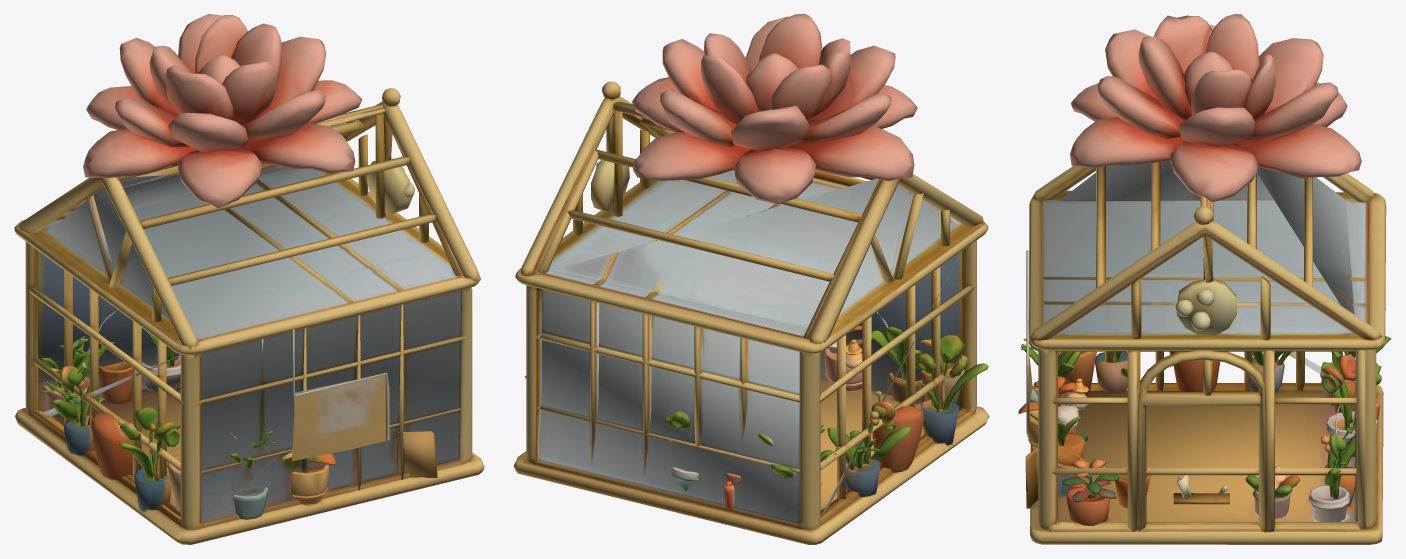
The model's file is florist.glb.
The picture shows the model from 3 angles, left to right: view 1: azimuth 30°, elevation 25°; view 2: azimuth 150°, elevation 25°; view 3: azimuth 270°, elevation 25°; orthographic projection. The views are drawn at different scales.
Visible parts, largest first — view 1: tripo_node_82040ec4-b4fe-468d-a8b9-e0e1ef69a4c4; view 2: tripo_node_82040ec4-b4fe-468d-a8b9-e0e1ef69a4c4; view 3: tripo_node_82040ec4-b4fe-468d-a8b9-e0e1ef69a4c4.
Boxes of the visible parts, <box> form: tripo_node_82040ec4-b4fe-468d-a8b9-e0e1ef69a4c4: <box>14,14,484,544</box>; tripo_node_82040ec4-b4fe-468d-a8b9-e0e1ef69a4c4: <box>513,14,989,544</box>; tripo_node_82040ec4-b4fe-468d-a8b9-e0e1ef69a4c4: <box>1018,14,1391,544</box>.
Size of the model in its own units: 0.873 by 0.998 by 0.8066.
1 material, 1 textured.
